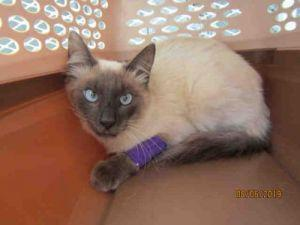siamese: (59, 25, 161, 146)
